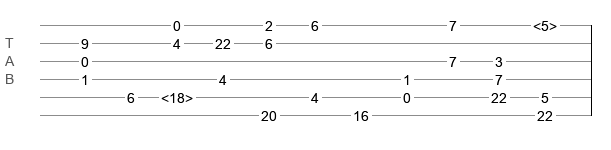0: (81, 54, 89, 64), (173, 18, 181, 28), (403, 90, 411, 100)
1: (81, 72, 89, 82), (403, 72, 411, 82)
16: (353, 108, 369, 118)
2: (265, 18, 273, 28)
20: (261, 108, 277, 118)
22: (215, 36, 231, 46), (491, 90, 507, 100), (537, 108, 553, 118)
3: (495, 54, 503, 64)
4: (173, 36, 181, 46), (219, 72, 227, 82), (311, 90, 319, 100)
5: (541, 90, 549, 100)
6: (127, 90, 135, 100), (265, 36, 273, 46), (311, 18, 319, 28)
7: (449, 54, 457, 64), (449, 18, 457, 28), (495, 72, 503, 82)
9: (81, 36, 89, 46)
harmonic: (161, 90, 193, 100), (533, 18, 557, 28)
